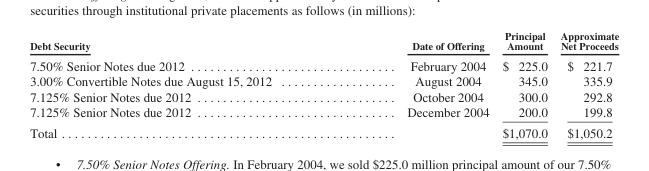table: (29, 29, 618, 139)
table column: (29, 29, 338, 139), (338, 29, 495, 139), (553, 29, 618, 139), (495, 29, 553, 139)
table column header: (29, 29, 618, 54)
table row: (29, 29, 618, 54), (29, 54, 618, 73), (29, 104, 618, 122), (29, 122, 618, 139), (29, 88, 618, 104), (29, 73, 618, 88)
